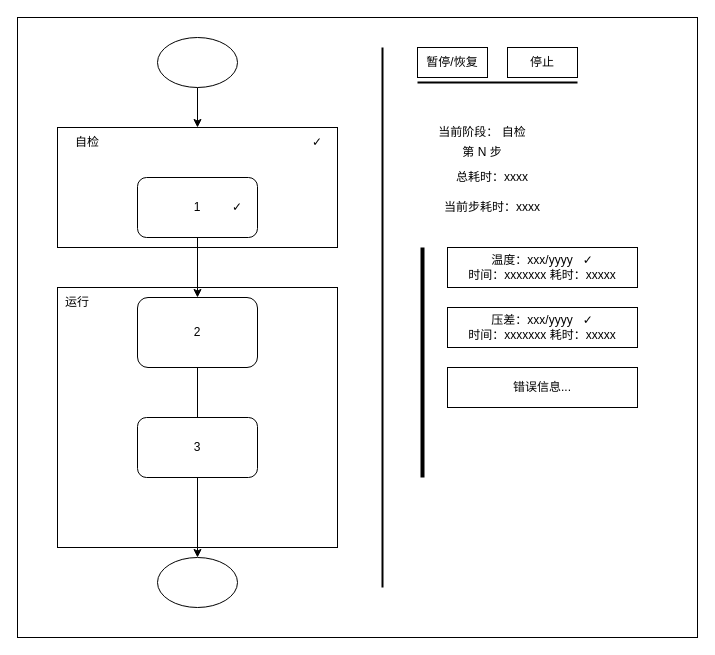
Some shapes in this 715 by 655 pixel diagram are drawn without their labels. The shapes that lost their labels are listed below. From the top down, each one's centre as x and y in pixels, then its label:
At point 197,62: "开始".
At point 197,582: "结束".
